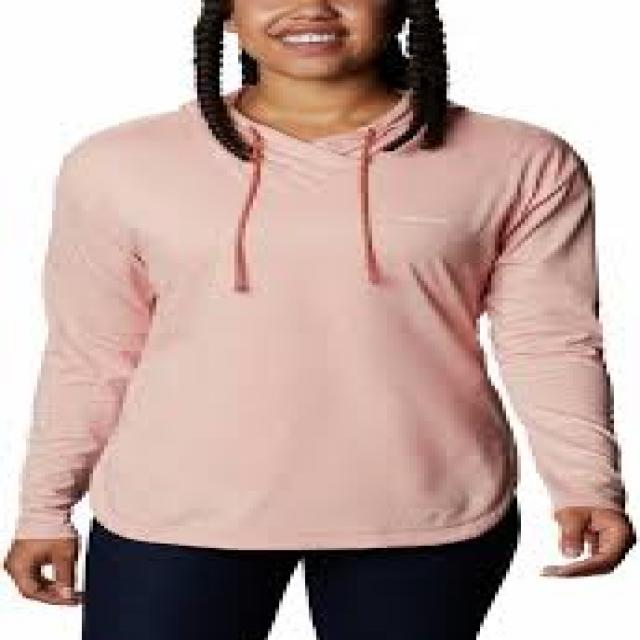plain: (42, 81, 630, 535)
